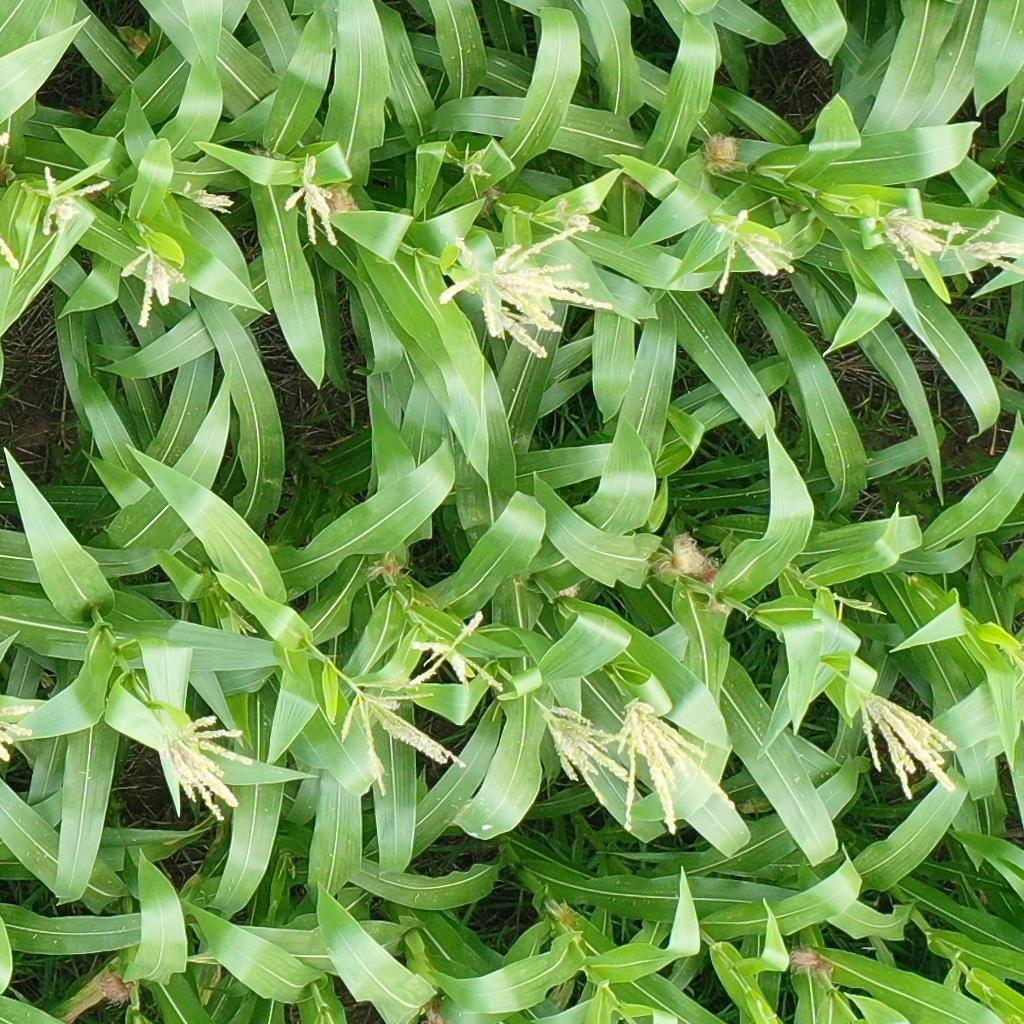Tassel: (441, 229, 612, 366), (619, 699, 738, 837), (342, 680, 467, 801), (853, 687, 961, 802), (160, 712, 256, 827), (406, 611, 508, 696), (540, 703, 637, 784), (712, 208, 796, 296), (873, 206, 965, 271), (118, 244, 188, 326), (280, 154, 340, 247), (40, 166, 113, 237), (953, 214, 1024, 284), (1, 702, 39, 764), (177, 179, 237, 217), (547, 195, 603, 234), (834, 591, 888, 621), (456, 144, 490, 183), (1000, 643, 1024, 667)
